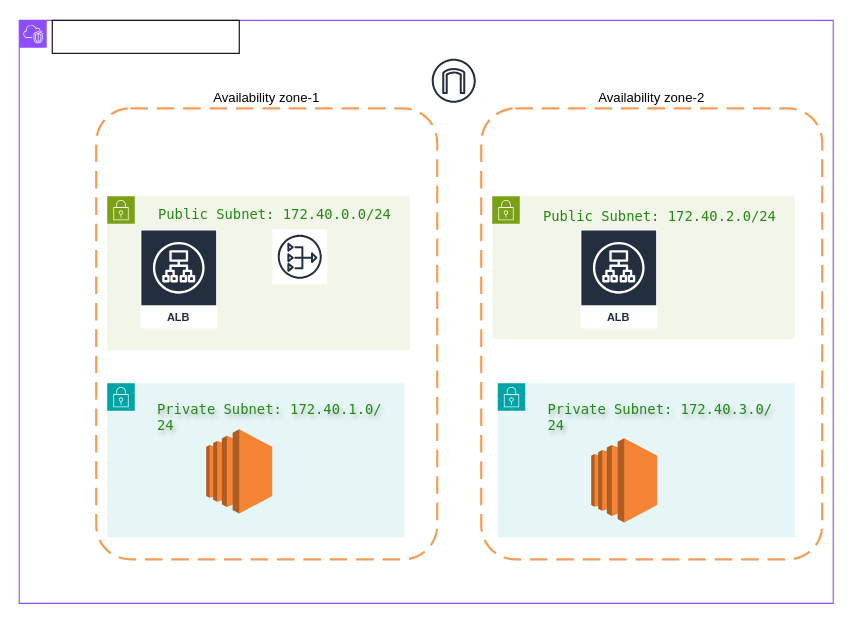
This 853x623 diagram has some shape labels left out. The centre of each missing label's shape, as x and y in pixels:
"Internet gateway" belongs at [453,80].
"NAT gateway" belongs at [299,256].
"VPC: 172.40.0.0/16" belongs at [145,36].
